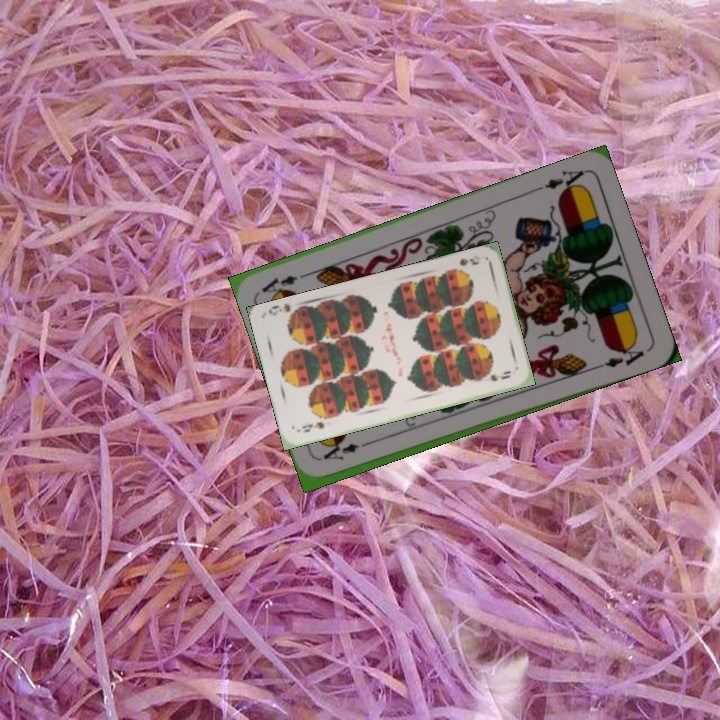EA: (531, 166, 588, 196), (319, 436, 375, 463)
S9: (447, 254, 482, 276), (298, 418, 327, 435)
